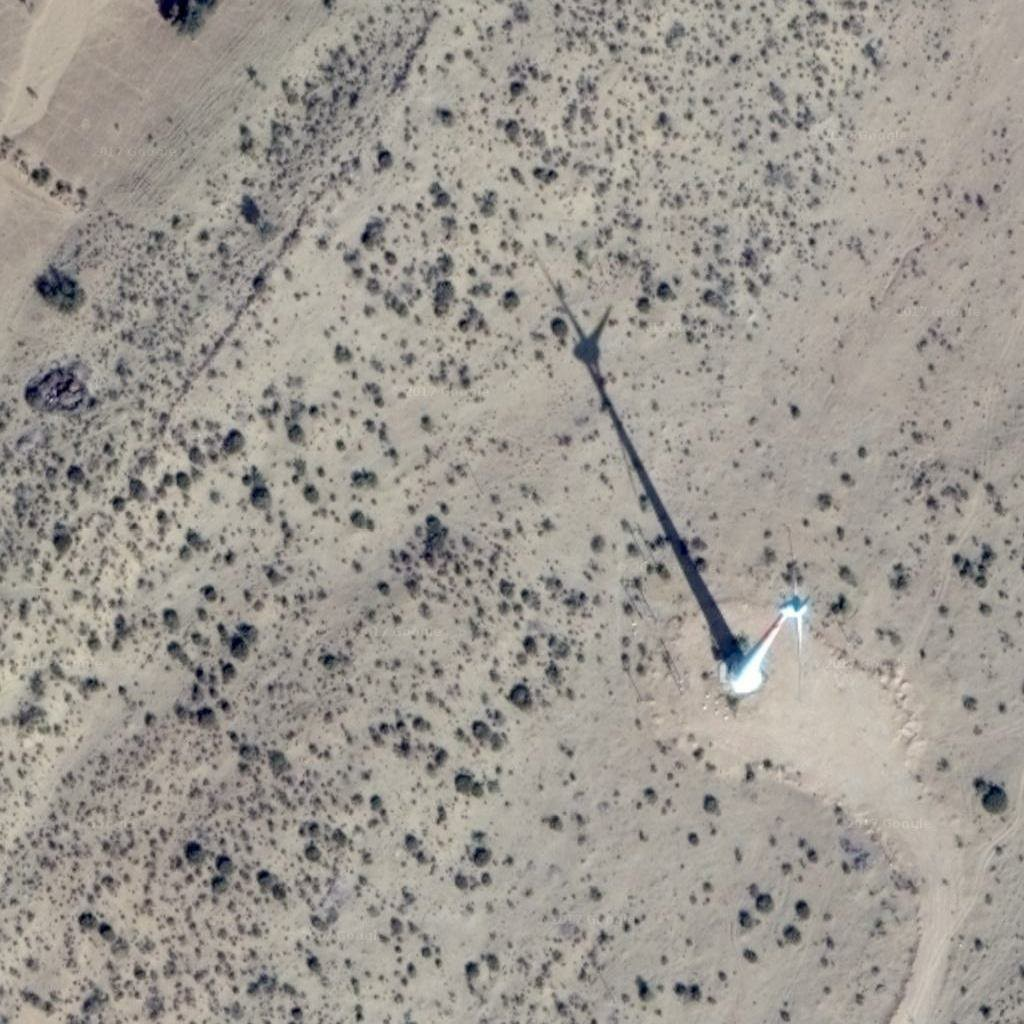Windmill: (533, 272, 754, 651)
